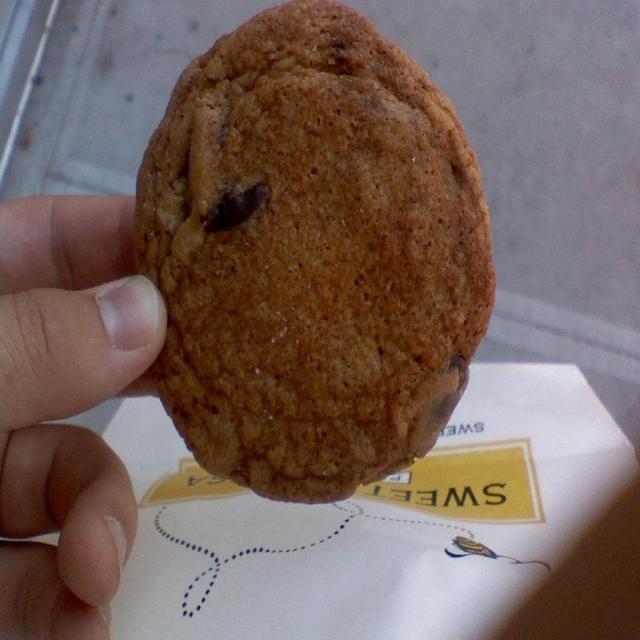Cookie: (120, 16, 495, 504)
